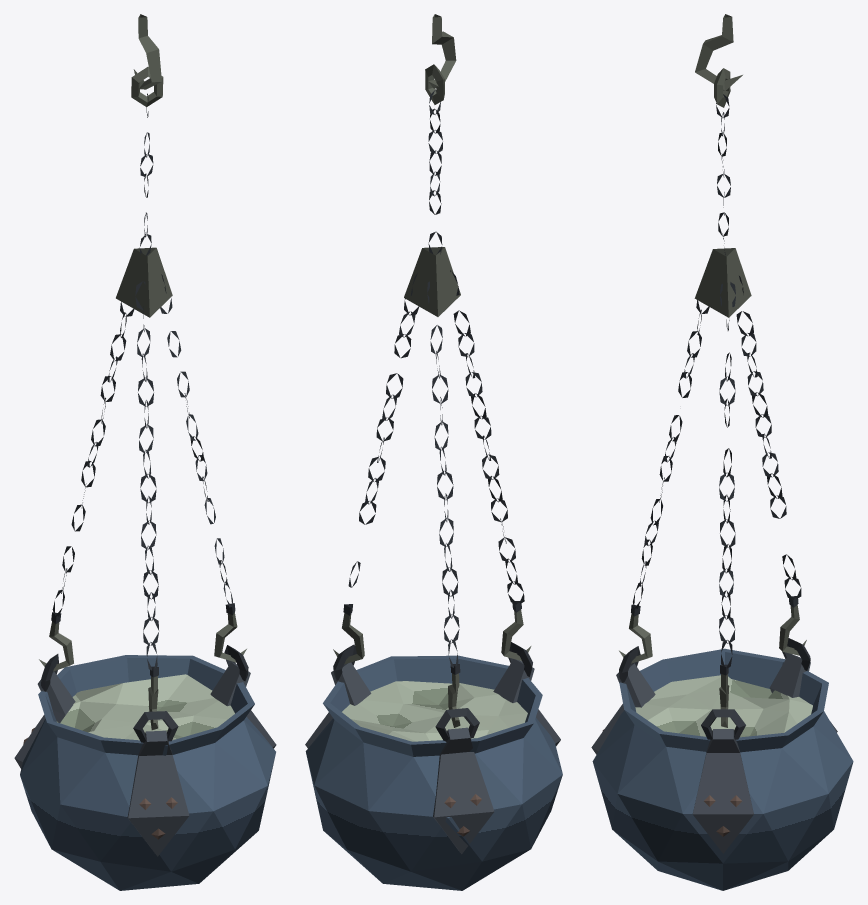
File: WitchBouler.fbx
3 views of the same model, side by side, from view 1: azimuth 30°, elevation 25°; view 2: azimuth 150°, elevation 25°; view 3: azimuth 270°, elevation 25° (orthographic).
Parts seen in each view (by area): view 1: WitchBouler; view 2: WitchBouler; view 3: WitchBouler.
Part boxes in pixels (x1,y1,x2,y2): WitchBouler: (14,14,276,890); WitchBouler: (305,14,562,890); WitchBouler: (591,14,853,890).
Bounding box in the file's own units: 64.24 × 238 × 66.22.
1 material, 1 textured.
